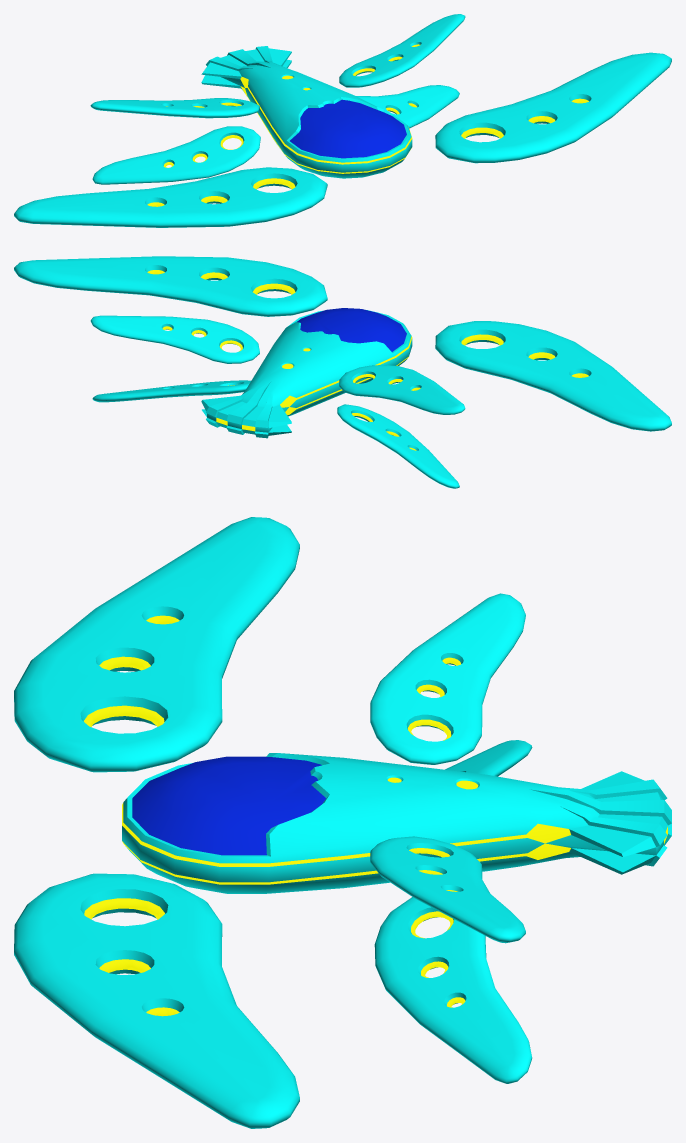
The model's file is Manta_Test.fbx.
The picture shows the model from 3 angles, top to bottom: view 1: azimuth 30°, elevation 25°; view 2: azimuth 150°, elevation 25°; view 3: azimuth 270°, elevation 25°; orthographic projection. The views are drawn at different scales.
Visible parts, largest first — view 1: Fusilage, WingRight, WingLeft, ThrusterRightBottom, ThrusterLeftTop, Manta_WLB1.001, ThrusterLeftBottom; view 2: Fusilage, WingLeft, WingRight, ThrusterLeftTop, Manta_WLB1.001, ThrusterRightBottom, ThrusterLeftBottom; view 3: Fusilage, WingLeft, WingRight, ThrusterLeftBottom, Manta_WLB1.001, ThrusterLeftTop, ThrusterRightBottom.
Boxes of the visible parts, bbox=[...] form: Fusilage: bbox=[201, 46, 412, 178]; WingRight: bbox=[14, 167, 327, 227]; WingLeft: bbox=[435, 52, 671, 163]; ThrusterRightBottom: bbox=[92, 126, 260, 184]; ThrusterLeftTop: bbox=[339, 14, 465, 87]; Manta_WLB1.001: bbox=[90, 98, 259, 118]; ThrusterLeftBottom: bbox=[356, 85, 459, 128]; Fusilage: bbox=[201, 308, 412, 438]; WingLeft: bbox=[14, 256, 327, 316]; WingRight: bbox=[435, 321, 671, 431]; ThrusterLeftTop: bbox=[90, 315, 259, 363]; Manta_WLB1.001: bbox=[339, 365, 465, 414]; ThrusterRightBottom: bbox=[337, 404, 459, 488]; ThrusterLeftBottom: bbox=[92, 380, 250, 402]; Fusilage: bbox=[122, 753, 671, 893]; WingLeft: bbox=[14, 873, 299, 1128]; WingRight: bbox=[14, 517, 299, 772]; ThrusterLeftBottom: bbox=[374, 897, 532, 1083]; Manta_WLB1.001: bbox=[370, 593, 525, 764]; ThrusterLeftTop: bbox=[370, 836, 525, 943]; ThrusterRightBottom: bbox=[445, 740, 532, 776].
Bounding box in the file's own units: 488 × 58.52 × 225.
